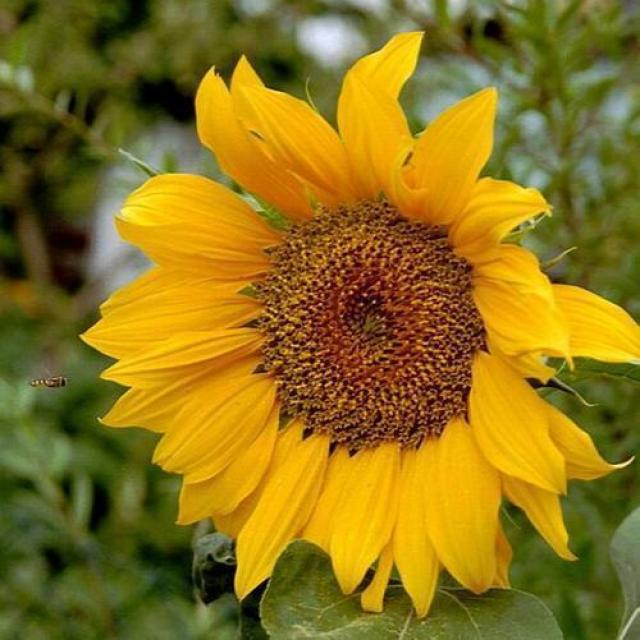sunflower: (78, 20, 640, 640)
